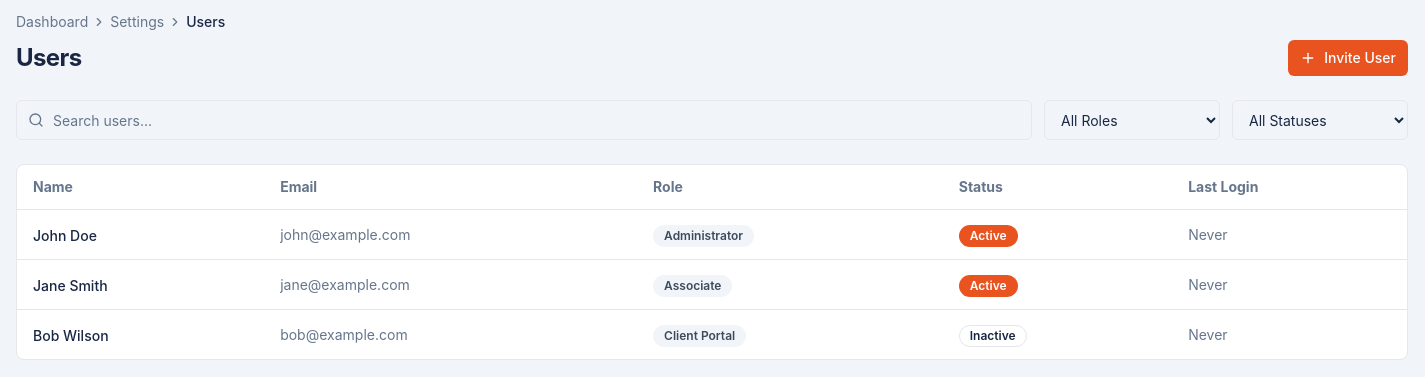
UsersView › filters users by search term
Type "John" into the field with placeholder "Search users…".
click(524, 120); type("John")  # box [16,100,1032,140]
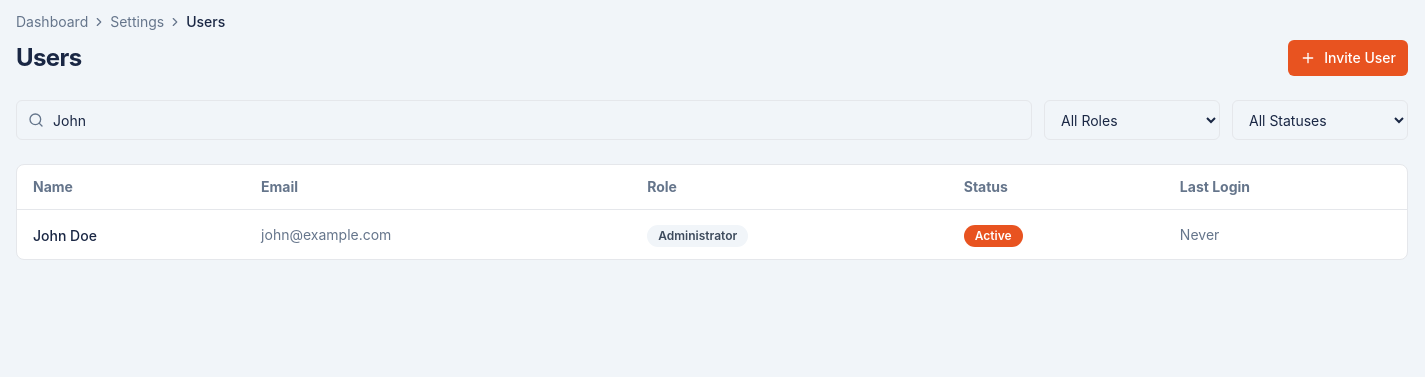
Expected: the link "Jane Smith" is gone
